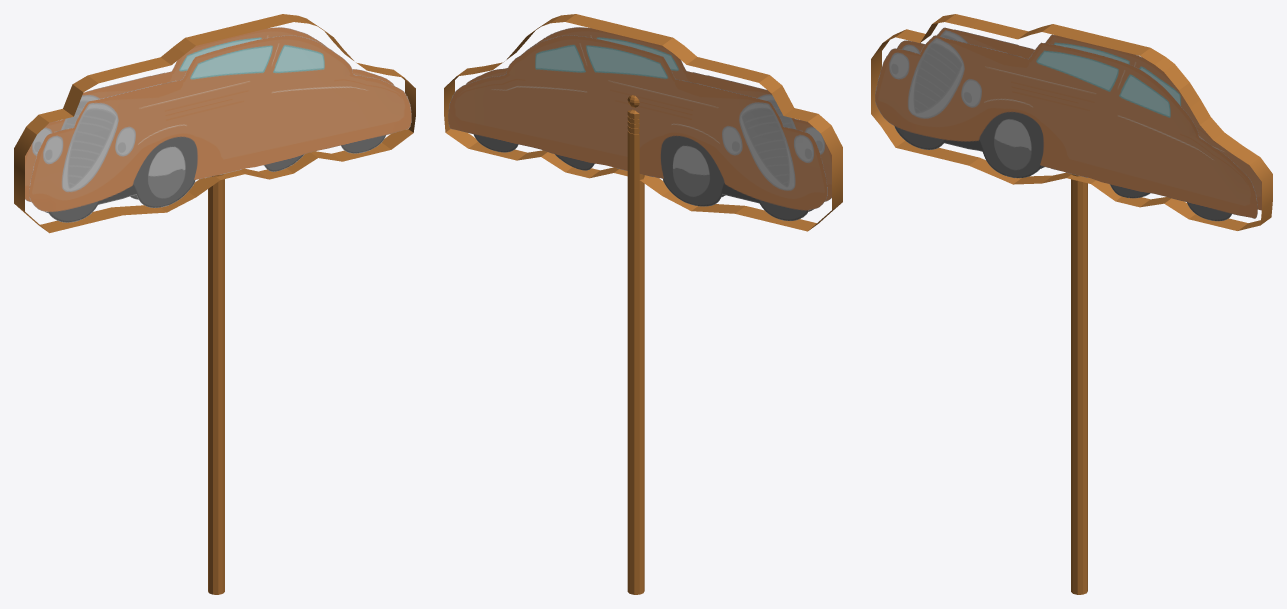
Rendered from Ecena7_Carro1.fbx.
3 views of the same model, side by side, from view 1: azimuth 30°, elevation 25°; view 2: azimuth 150°, elevation 25°; view 3: azimuth 330°, elevation 25° (orthographic).
Parts seen in each view (by area): view 1: polySurface6; view 2: polySurface6; view 3: polySurface6.
Part boxes in pixels (x1=…): polySurface6: x1=14, y1=14, x2=415, y2=594; polySurface6: x1=444, y1=14, x2=842, y2=594; polySurface6: x1=871, y1=14, x2=1272, y2=594.
Bounding box in the file's own units: 8.71 × 11.9 × 0.5054.
